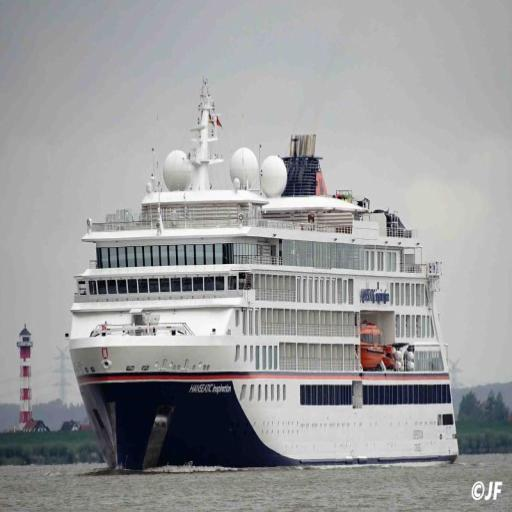cruises: (68, 76, 463, 477)
